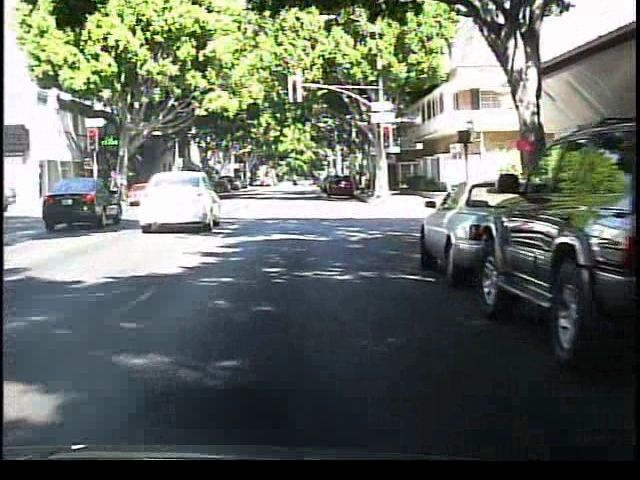person: (109, 162, 135, 204)
